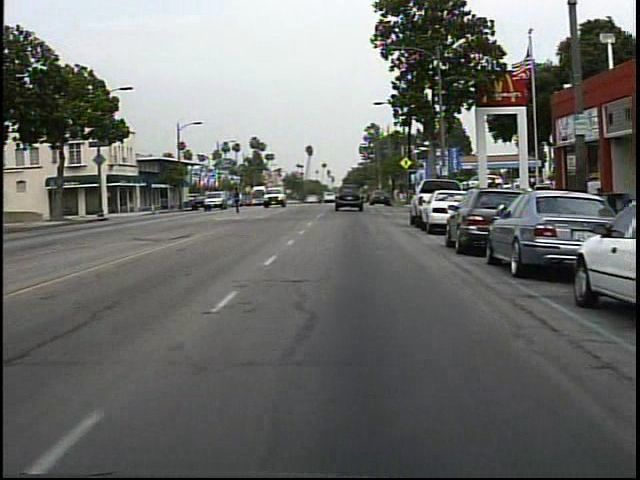person: (483, 172, 505, 218), (232, 183, 248, 217)
